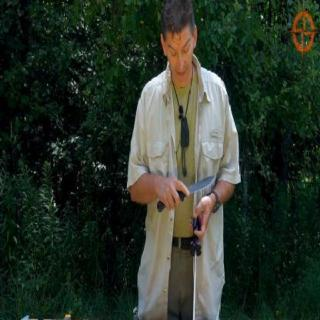knife: (155, 172, 217, 215)
